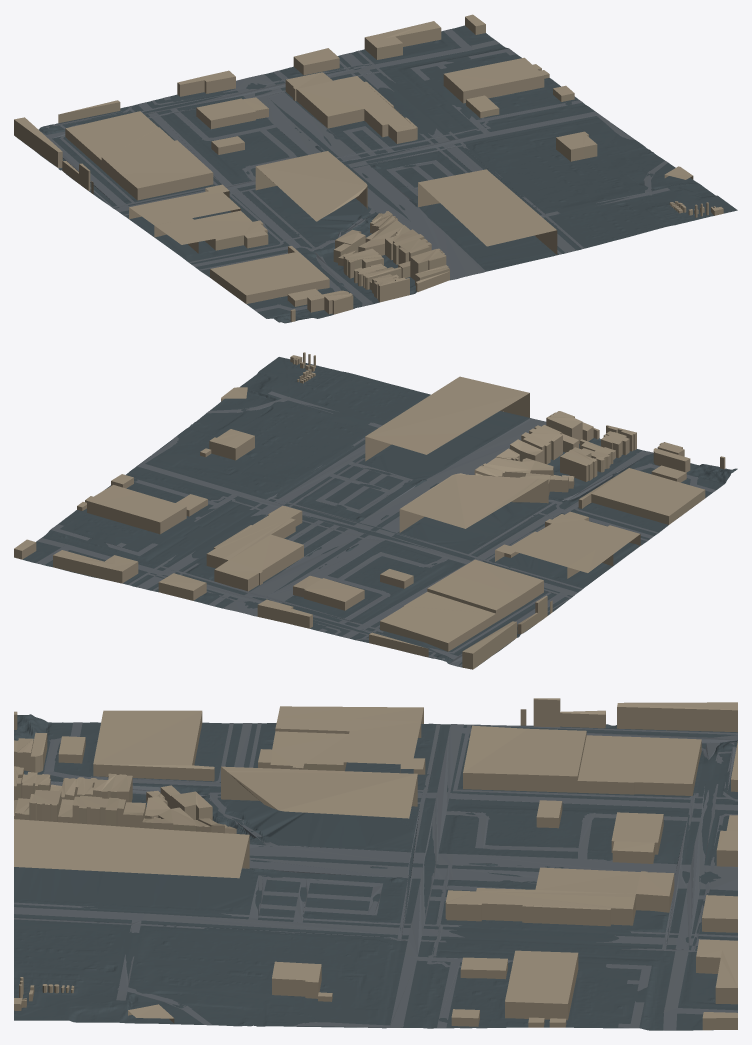
File: epsg26910-1442-10882.lod0.glb
3 renders of one model, top to bottom at view 1: azimuth 30°, elevation 25°; view 2: azimuth 150°, elevation 25°; view 3: azimuth 270°, elevation 25°, orthographic. The views are drawn at different scales.
Parts seen in each view (by area): view 1: epsg26910-1442-10882-lod0; view 2: epsg26910-1442-10882-lod0; view 3: epsg26910-1442-10882-lod0.
Part boxes in pixels (x1,y1,x2,y2): epsg26910-1442-10882-lod0: (14, 14, 737, 323); epsg26910-1442-10882-lod0: (14, 352, 737, 669); epsg26910-1442-10882-lod0: (14, 698, 737, 1030).
Size of the model in its own units: 384 by 28.83 by 384.
